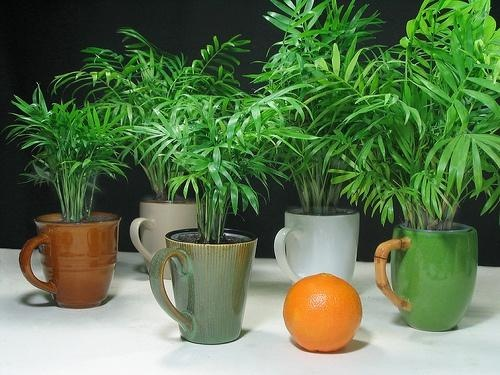pottedplant: (311, 3, 500, 331), (60, 25, 252, 292), (247, 3, 395, 294), (137, 92, 281, 352), (8, 89, 124, 310)
